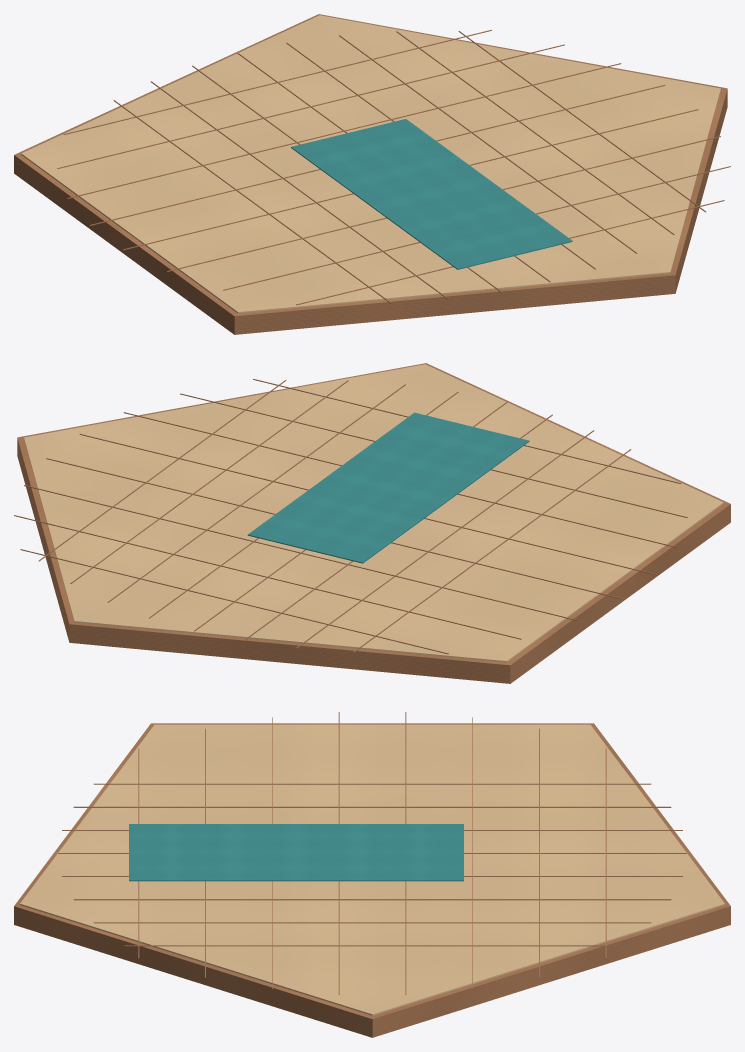
Rendered from atlas100-s093-a07.lod1.glb.
3 renders of one model, top to bottom at view 1: azimuth 30°, elevation 25°; view 2: azimuth 150°, elevation 25°; view 3: azimuth 270°, elevation 25°, orthographic.
Visible parts, largest first — view 1: atlas100-s093-a07:part-001, atlas100-s093-a07:part-021, atlas100-s093-a07:part-000, atlas100-s093-a07:part-015, atlas100-s093-a07:part-014, atlas100-s093-a07:part-017, atlas100-s093-a07:part-016, atlas100-s093-a07:part-018, atlas100-s093-a07:part-013, atlas100-s093-a07:part-019, atlas100-s093-a07:part-005, atlas100-s093-a07:part-009 (+4 smaller); view 2: atlas100-s093-a07:part-001, atlas100-s093-a07:part-021, atlas100-s093-a07:part-000, atlas100-s093-a07:part-015, atlas100-s093-a07:part-014, atlas100-s093-a07:part-016, atlas100-s093-a07:part-017, atlas100-s093-a07:part-018, atlas100-s093-a07:part-013, atlas100-s093-a07:part-019, atlas100-s093-a07:part-005, atlas100-s093-a07:part-009 (+4 smaller); view 3: atlas100-s093-a07:part-001, atlas100-s093-a07:part-021, atlas100-s093-a07:part-000, atlas100-s093-a07:part-005, atlas100-s093-a07:part-009, atlas100-s093-a07:part-004, atlas100-s093-a07:part-010, atlas100-s093-a07:part-011.
Part boxes in pixels (x1,y1,x2,y2): atlas100-s093-a07:part-001: [21, 15, 720, 313]; atlas100-s093-a07:part-021: [291, 119, 572, 269]; atlas100-s093-a07:part-000: [14, 14, 727, 334]; atlas100-s093-a07:part-015: [67, 63, 621, 198]; atlas100-s093-a07:part-014: [57, 44, 564, 168]; atlas100-s093-a07:part-017: [122, 109, 698, 250]; atlas100-s093-a07:part-016: [89, 85, 665, 225]; atlas100-s093-a07:part-018: [167, 136, 720, 271]; atlas100-s093-a07:part-013: [63, 30, 491, 134]; atlas100-s093-a07:part-019: [223, 166, 730, 290]; atlas100-s093-a07:part-005: [150, 81, 448, 299]; atlas100-s093-a07:part-009: [339, 35, 637, 253]; atlas100-s093-a07:part-001: [24, 364, 723, 662]; atlas100-s093-a07:part-021: [247, 412, 529, 563]; atlas100-s093-a07:part-000: [17, 363, 730, 683]; atlas100-s093-a07:part-015: [24, 485, 577, 620]; atlas100-s093-a07:part-014: [14, 515, 521, 639]; atlas100-s093-a07:part-016: [46, 458, 622, 599]; atlas100-s093-a07:part-017: [79, 434, 655, 574]; atlas100-s093-a07:part-018: [123, 412, 677, 547]; atlas100-s093-a07:part-013: [20, 549, 448, 654]; atlas100-s093-a07:part-019: [180, 393, 687, 517]; atlas100-s093-a07:part-005: [296, 430, 594, 648]; atlas100-s093-a07:part-009: [107, 384, 405, 602]; atlas100-s093-a07:part-001: [20, 724, 724, 1015]; atlas100-s093-a07:part-021: [129, 824, 463, 881]; atlas100-s093-a07:part-000: [14, 723, 730, 1037]; atlas100-s093-a07:part-005: [73, 806, 671, 807]; atlas100-s093-a07:part-009: [73, 899, 671, 900]; atlas100-s093-a07:part-004: [93, 783, 651, 784]; atlas100-s093-a07:part-010: [93, 922, 651, 923]; atlas100-s093-a07:part-011: [124, 945, 620, 946].
Bounding box in the file's own units: 11.87 × 0.404 × 11.81.
Materials: 3 (3 with a texture image).
